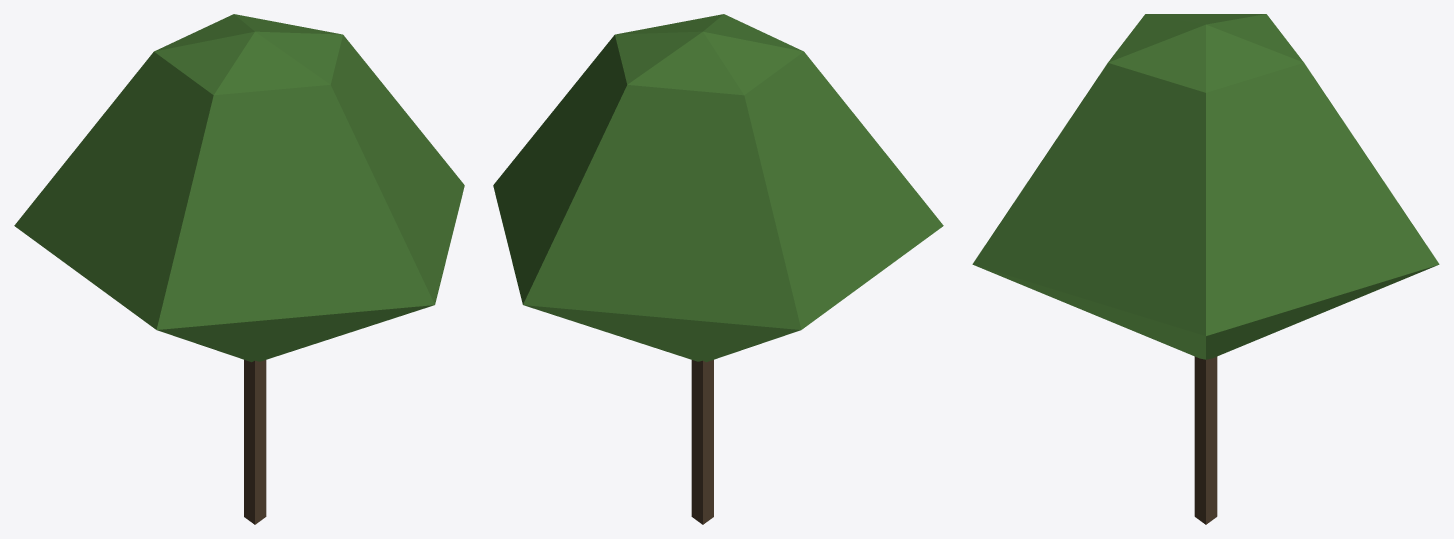
Rendered from broadleaf.L0.3ce680dd.glb.
The picture shows the model from 3 angles, left to right: view 1: azimuth 30°, elevation 25°; view 2: azimuth 150°, elevation 25°; view 3: azimuth 270°, elevation 25°; orthographic projection.
Parts seen in each view (by area): view 1: A-TREES-BROADLEAF; view 2: A-TREES-BROADLEAF; view 3: A-TREES-BROADLEAF.
Part boxes in pixels (x1=…): A-TREES-BROADLEAF: x1=14, y1=14, x2=464, y2=524; A-TREES-BROADLEAF: x1=493, y1=14, x2=943, y2=524; A-TREES-BROADLEAF: x1=972, y1=14, x2=1439, y2=524.
Bounding box in the file's own units: 8.14 × 10 × 8.56.
